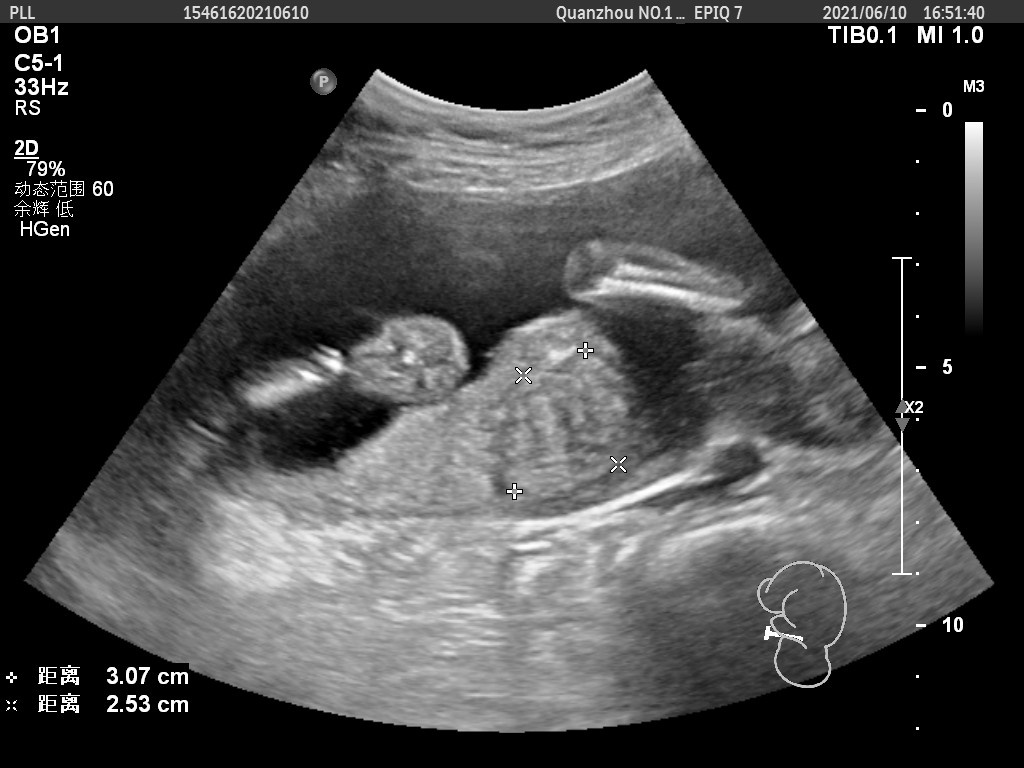肌瘤: (512, 352, 624, 495)
